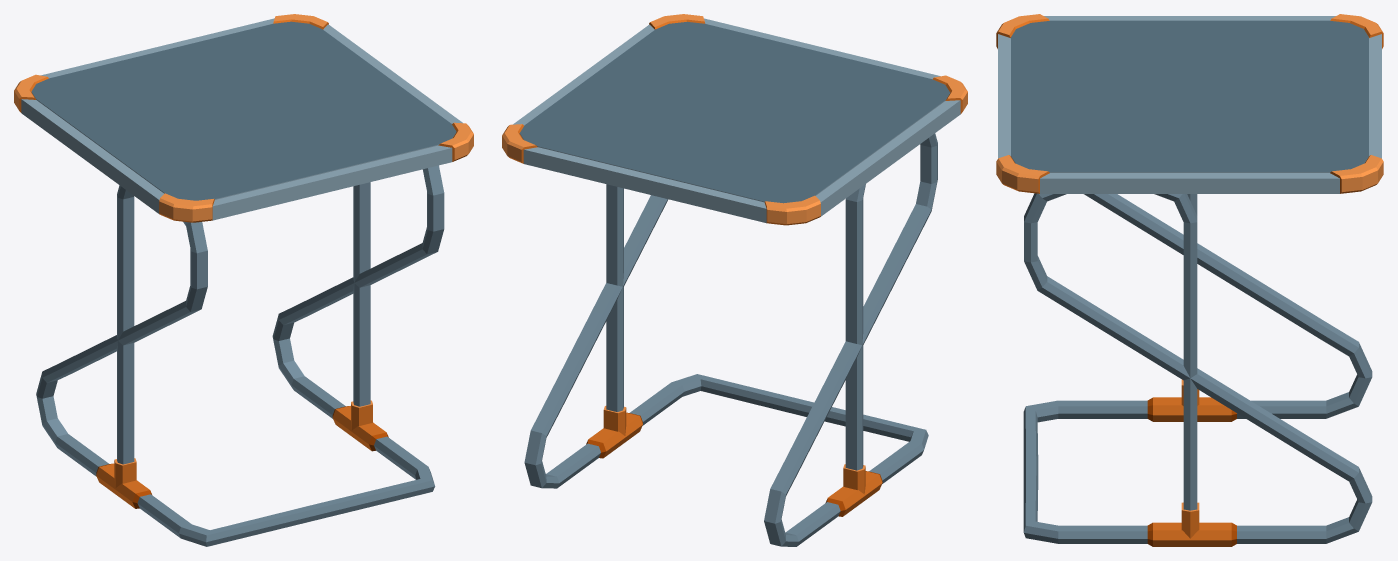
The model's file is TableSciFi_01.glb.
The picture shows the model from 3 angles, left to right: view 1: azimuth 30°, elevation 25°; view 2: azimuth 150°, elevation 25°; view 3: azimuth 270°, elevation 25°; orthographic projection. The views are drawn at different scales.
Parts seen in each view (by area): view 1: TableSciFi_01; view 2: TableSciFi_01; view 3: TableSciFi_01.
Part boxes in pixels (left/top/right/bottom): TableSciFi_01: left=14, top=14, right=473, bottom=546; TableSciFi_01: left=502, top=14, right=967, bottom=546; TableSciFi_01: left=996, top=14, right=1383, bottom=546.
Size of what is drawn, in the model's own units: 0.9332 by 1.02 by 0.9332.
Materials: 1 (1 with a texture image).
